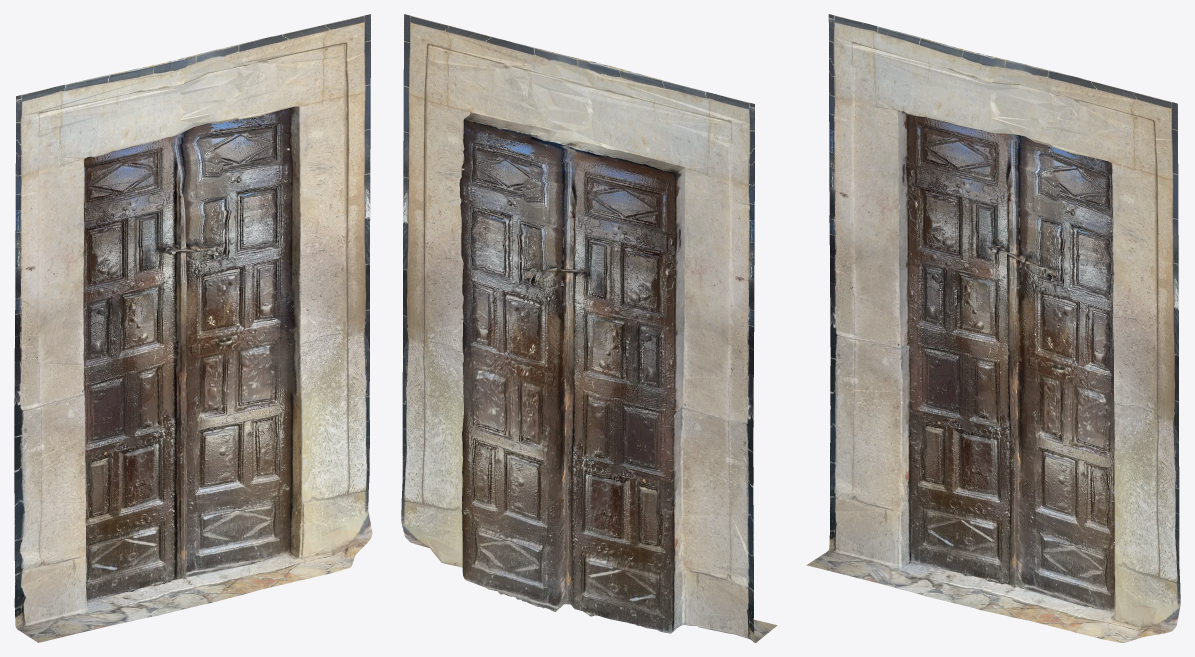
Rendered from wooden-door-zawiya.glb.
3 renders of one model, left to right at view 1: azimuth 30°, elevation 25°; view 2: azimuth 150°, elevation 25°; view 3: azimuth 330°, elevation 25°, orthographic.
Visible parts, largest first — view 1: Object_3; view 2: Object_3; view 3: Object_3.
Part boxes in pixels (bbox=[...]): Object_3: bbox=[14, 14, 372, 642]; Object_3: bbox=[401, 14, 777, 642]; Object_3: bbox=[806, 14, 1180, 642].
Size of the model in its own units: 1.61 by 2.35 by 0.2967.
1 material, 1 textured.
